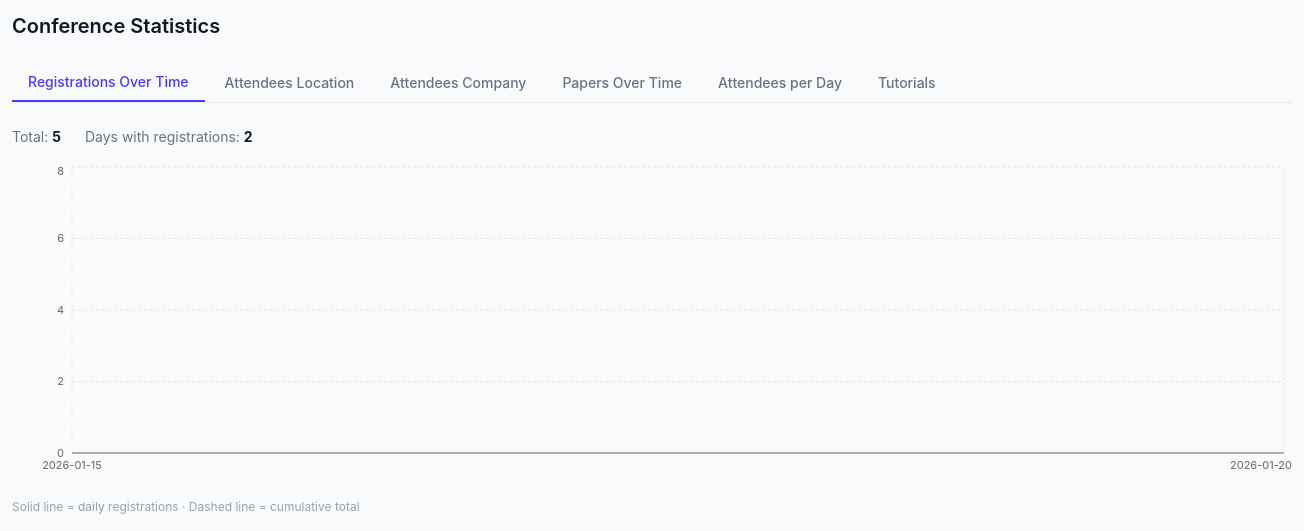
Test case: ConferenceStatisticsTab › shows not-applicable message when has_program_days=false
Click the button "Attendees per Day": (780, 83) [702, 64, 858, 102]
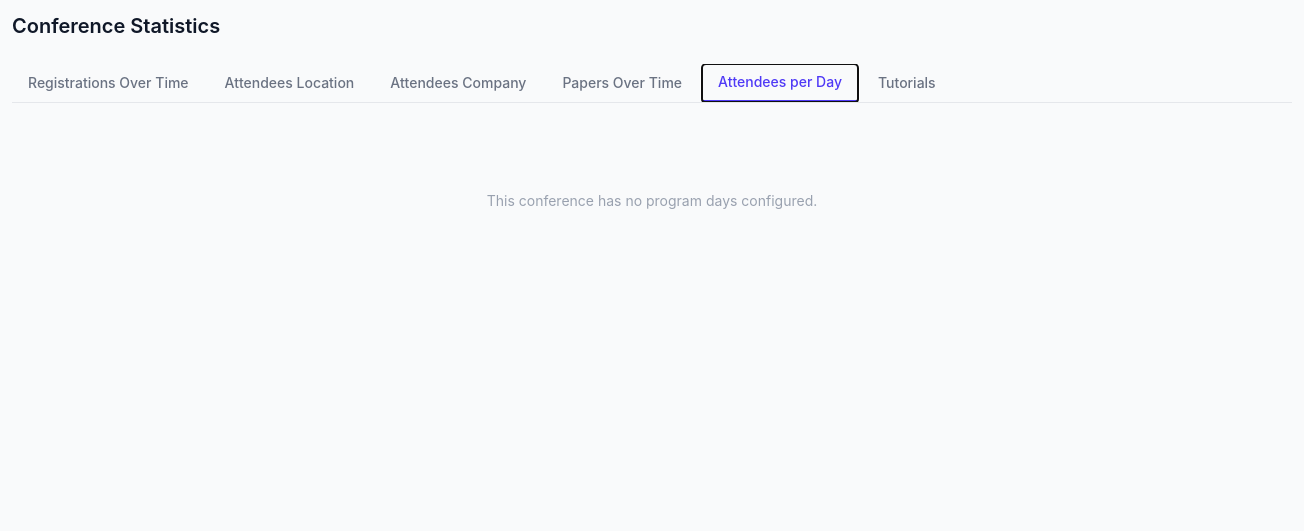
Now the text "This conference has no program days configured." is shown, box [487, 192, 817, 209]
